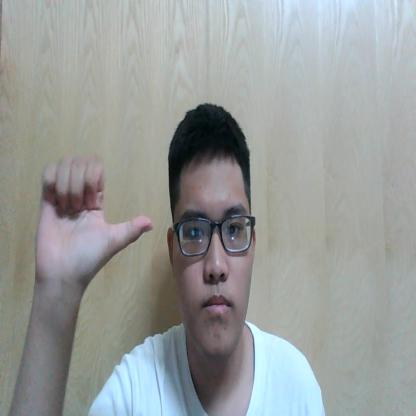left: (34, 154, 154, 281)
